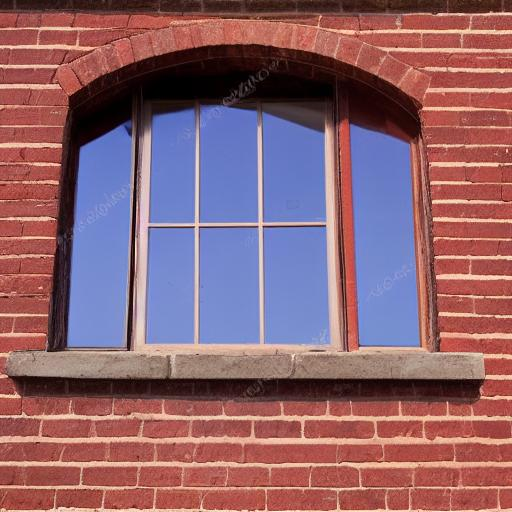Window: (8, 20, 487, 393)
